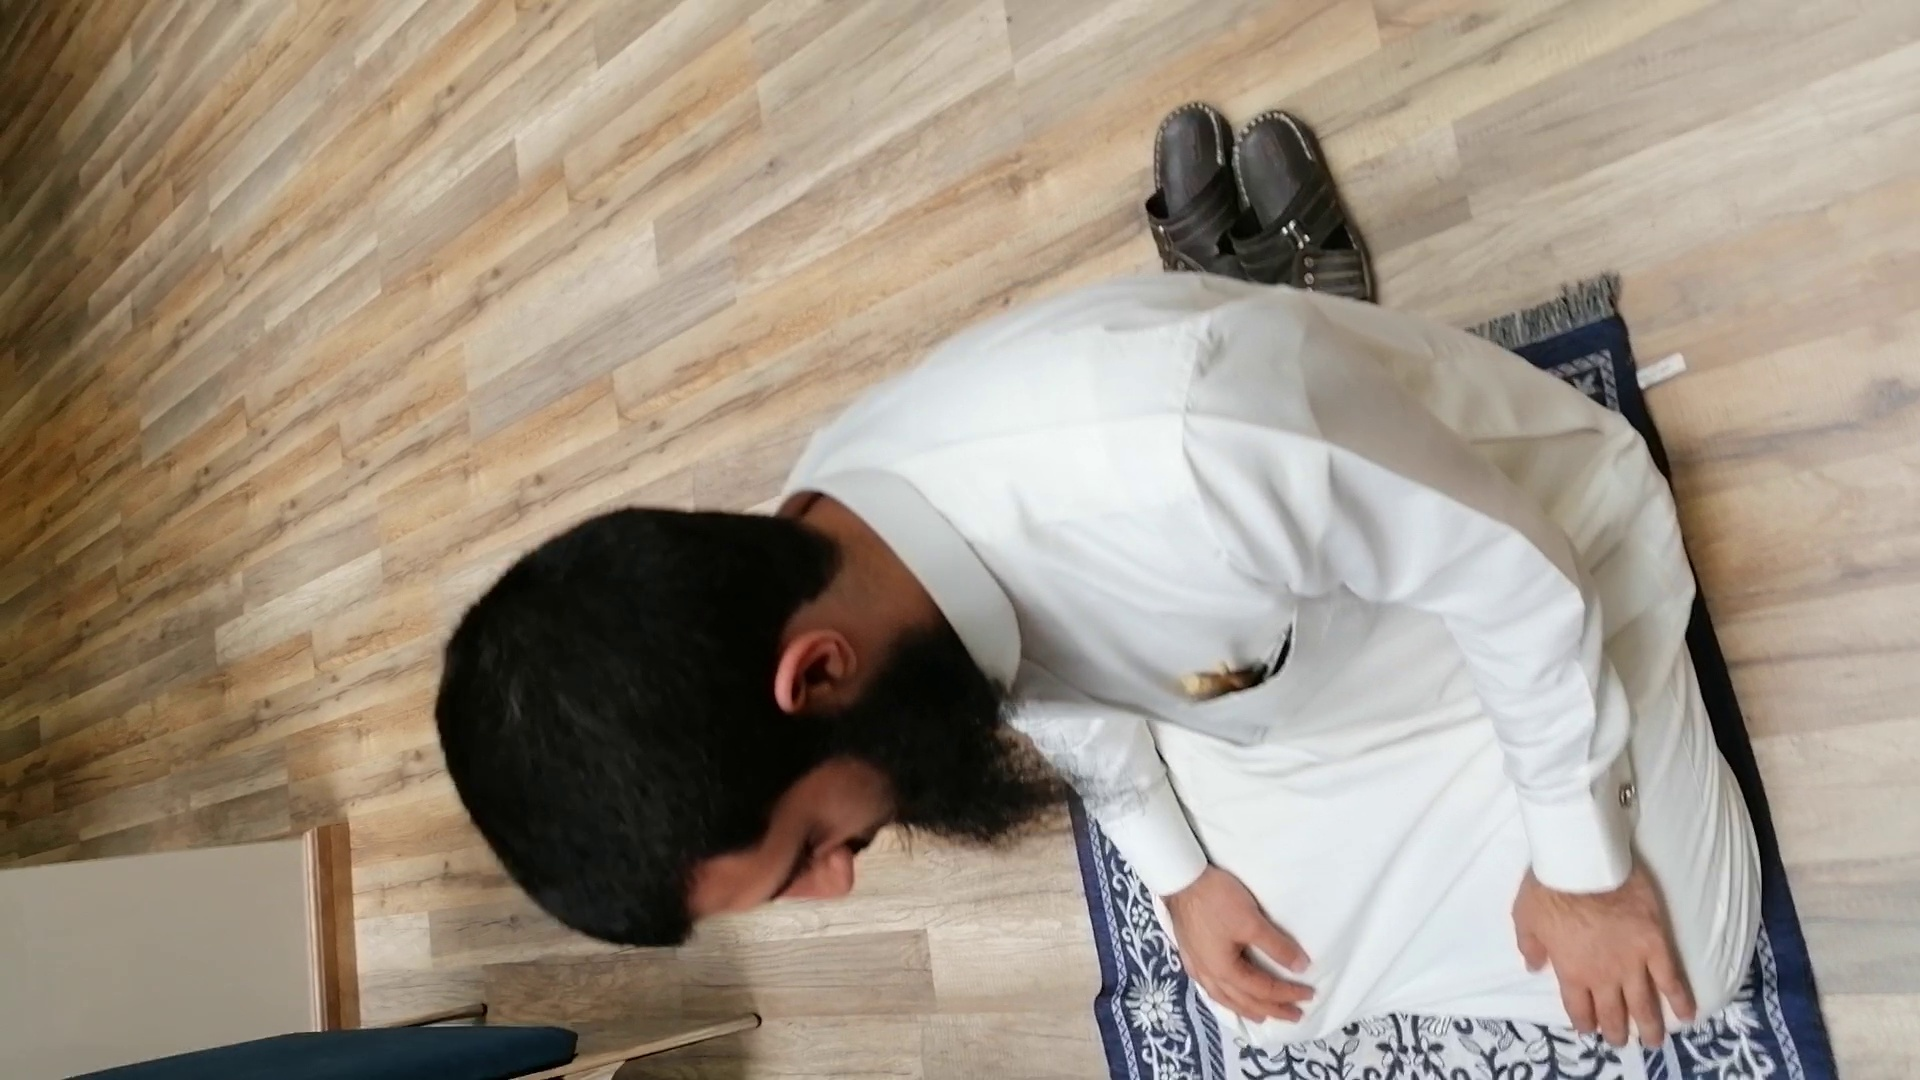sitting: (421, 257, 1788, 1050)
